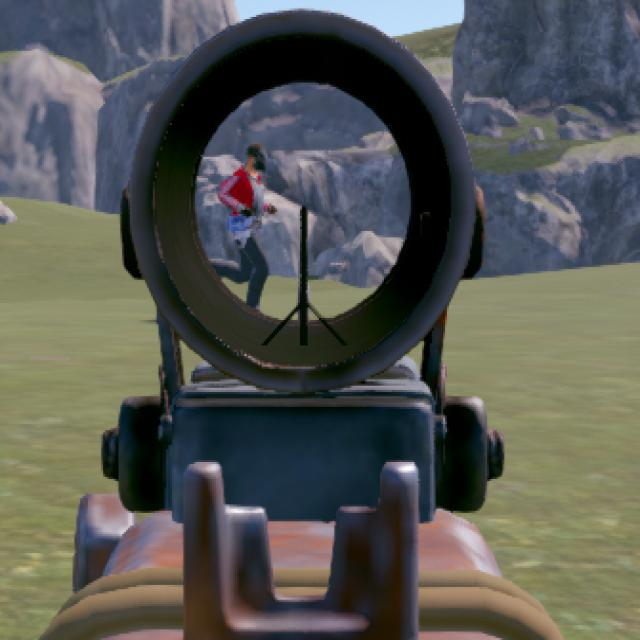Player: (220, 142, 270, 306)
